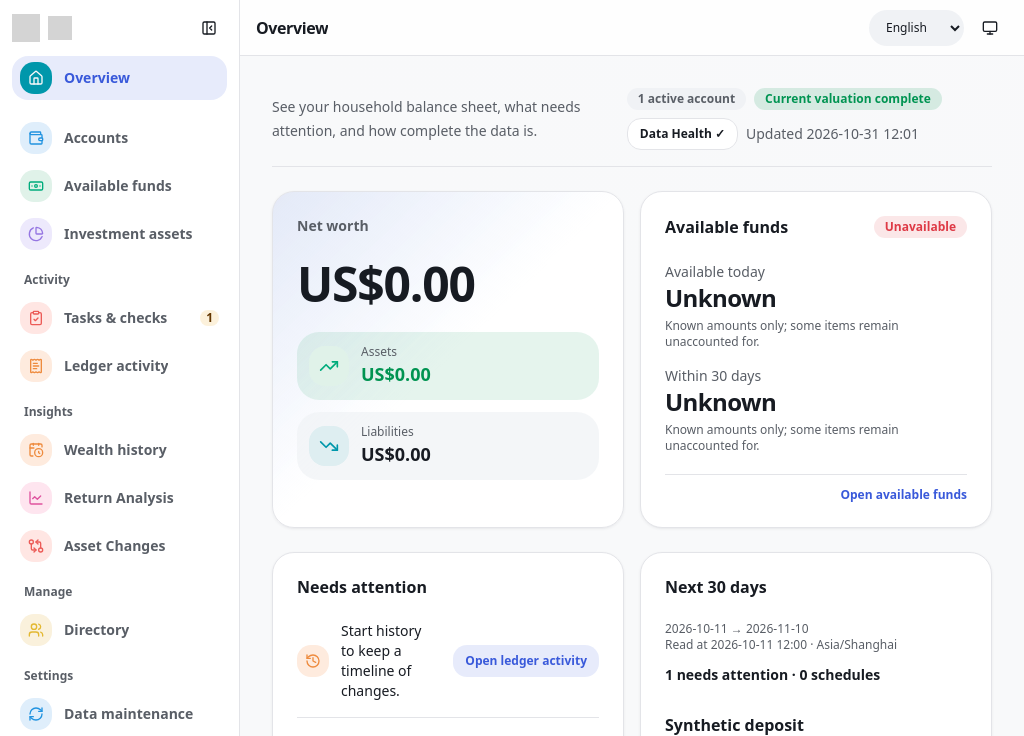
Test case: App shell smoke test › opens the Available funds page from the workspace nav
This screenshot has width=1024, height=736.
Expected: the text with test id "overview-net-worth" is shown, [297,251,475,316]
Click the button "Available funds" at (120, 186), box [12,164,227,208]
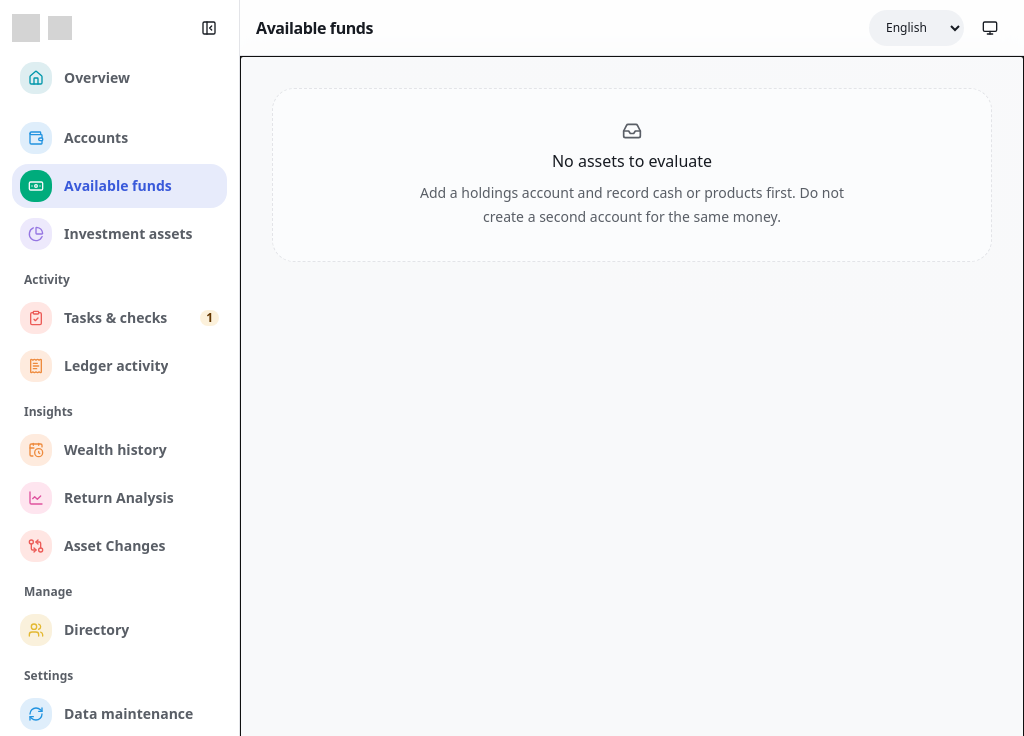
Expected: the element with test id "available-funds-page" is shown, [272,88,992,262]
